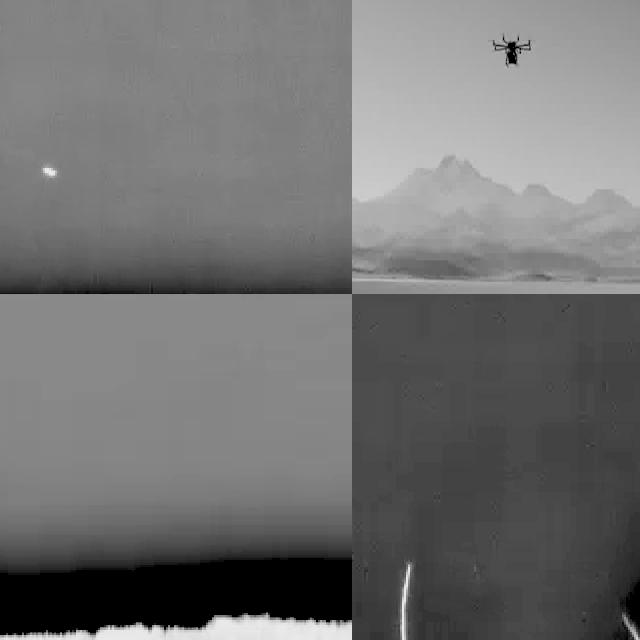0: (463, 566, 491, 596)
1: (29, 159, 65, 189)
drone: (491, 31, 531, 70)
